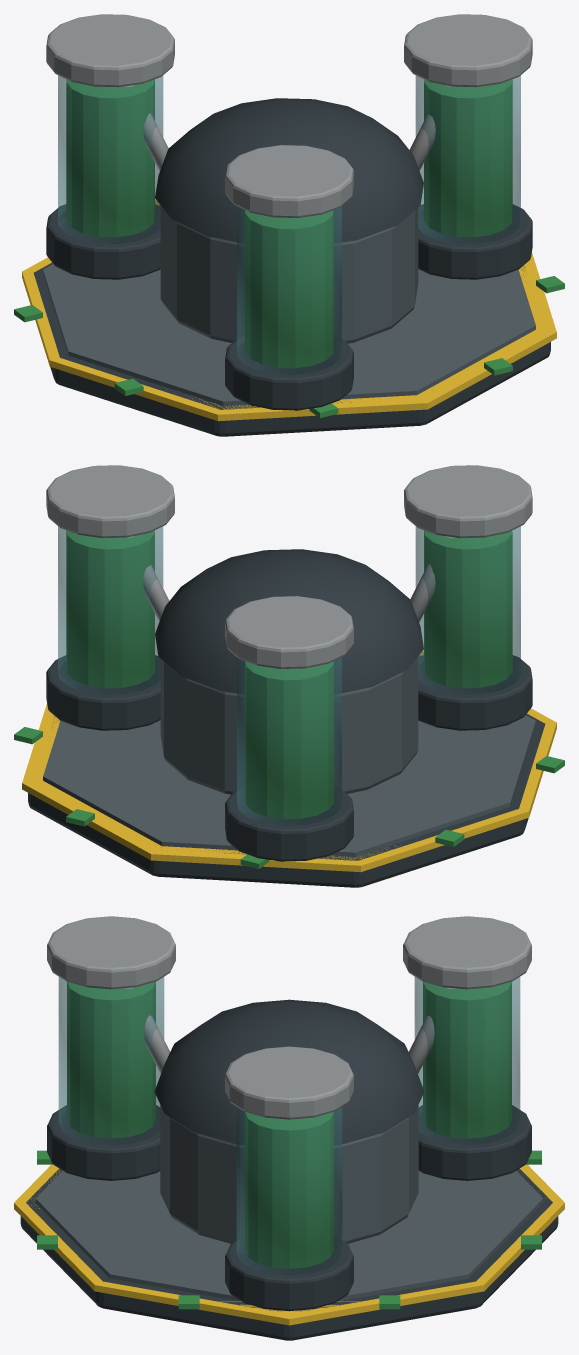
The model's file is bio_lab.fbx.
The picture shows the model from 3 angles, top to bottom: view 1: azimuth 30°, elevation 25°; view 2: azimuth 150°, elevation 25°; view 3: azimuth 270°, elevation 25°; orthographic projection.
Parts seen in each view (by area): view 1: bio_lab, ANIM_pulse_0.9__vat2_fluid, ANIM_pulse_0.7__vat1_fluid, ANIM_pulse_0.5__vat0_fluid; view 2: bio_lab, ANIM_pulse_0.7__vat1_fluid, ANIM_pulse_0.9__vat2_fluid, ANIM_pulse_0.5__vat0_fluid; view 3: bio_lab, ANIM_pulse_0.5__vat0_fluid, ANIM_pulse_0.7__vat1_fluid, ANIM_pulse_0.9__vat2_fluid.
Part boxes in pixels (box(x1,y1,x2,y2)): bio_lab: box(14, 14, 564, 436); ANIM_pulse_0.9__vat2_fluid: box(245, 210, 333, 368); ANIM_pulse_0.7__vat1_fluid: box(66, 79, 154, 237); ANIM_pulse_0.5__vat0_fluid: box(424, 79, 512, 237); bio_lab: box(14, 465, 564, 887); ANIM_pulse_0.7__vat1_fluid: box(245, 661, 333, 819); ANIM_pulse_0.9__vat2_fluid: box(424, 530, 512, 688); ANIM_pulse_0.5__vat0_fluid: box(66, 530, 154, 688); bio_lab: box(14, 916, 564, 1340); ANIM_pulse_0.5__vat0_fluid: box(245, 1112, 333, 1268); ANIM_pulse_0.7__vat1_fluid: box(423, 982, 511, 1138); ANIM_pulse_0.9__vat2_fluid: box(67, 982, 155, 1138).
Bounding box in the file's own units: 4.69 × 2.29 × 4.69.
